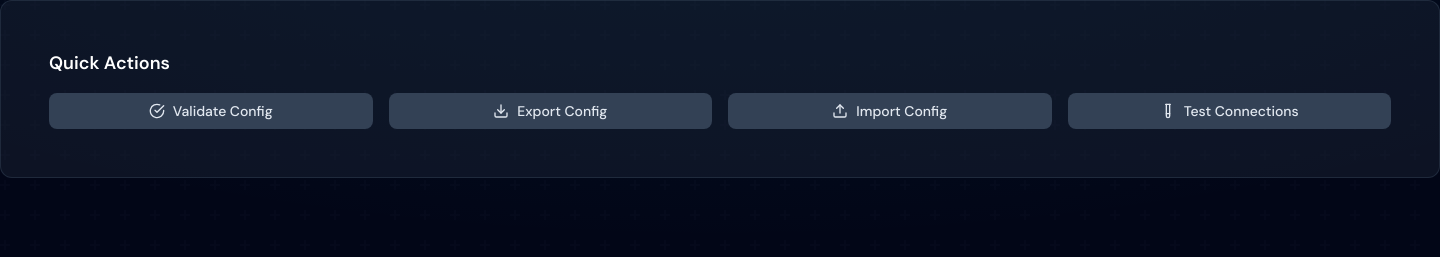
Test: ConfigQuickActions › shows validation success message
This screenshot has width=1440, height=257.
Click the button "Validate Config".
click(211, 111)  # box [49,93,372,129]
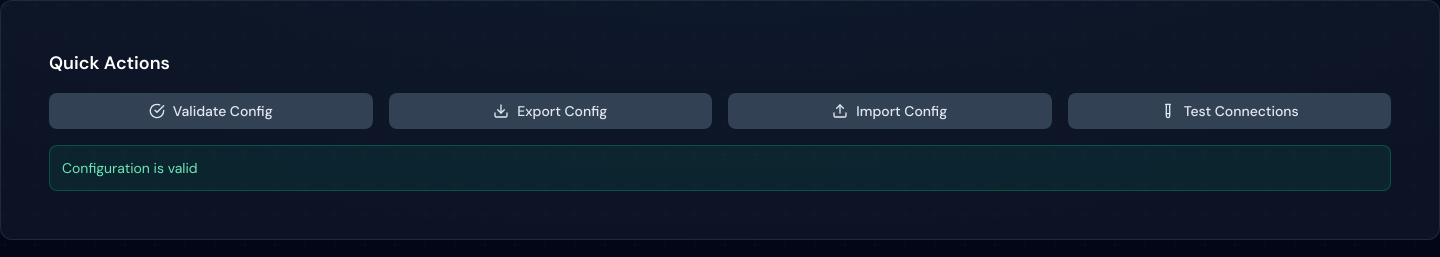
Expected: the text "Configuration is valid" is shown, [62,159,198,177]
